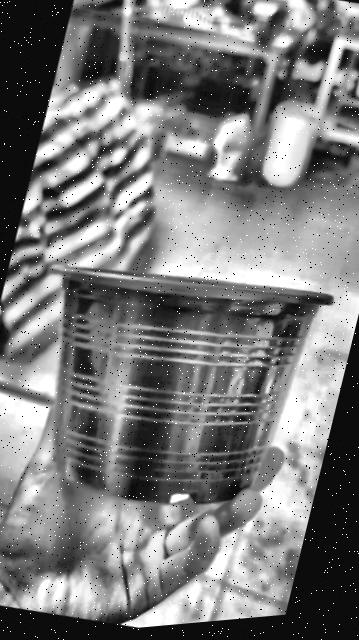pot: (53, 267, 329, 503)
